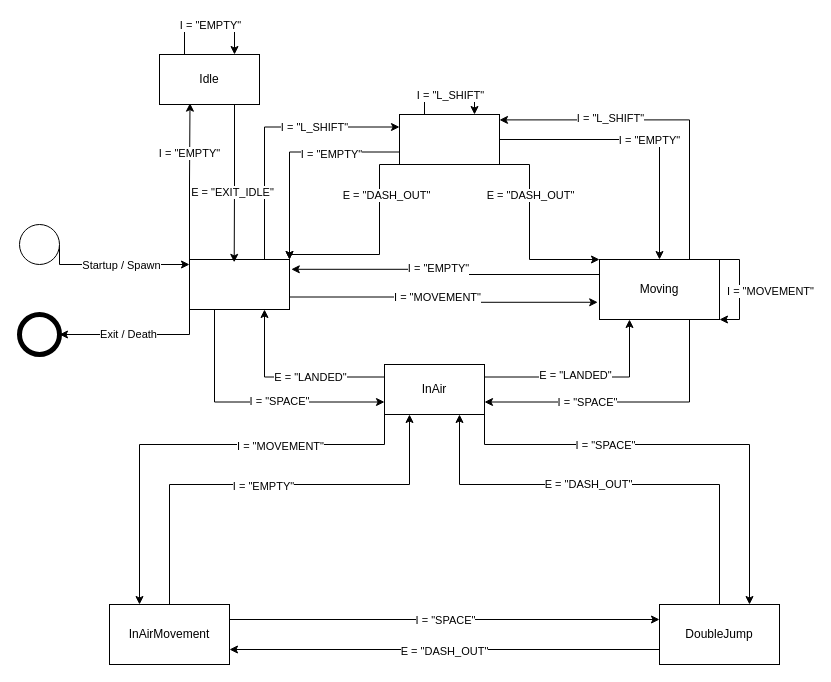
Some shapes in this 831 by 682 pixel diagram are drawn without their labels. The shapes that lost their labels are listed below. From the top down, each one's centre as x and y in pixels, then its label:
At (449,139): "Continuous Dash".
At (239,284): "Grounded".
